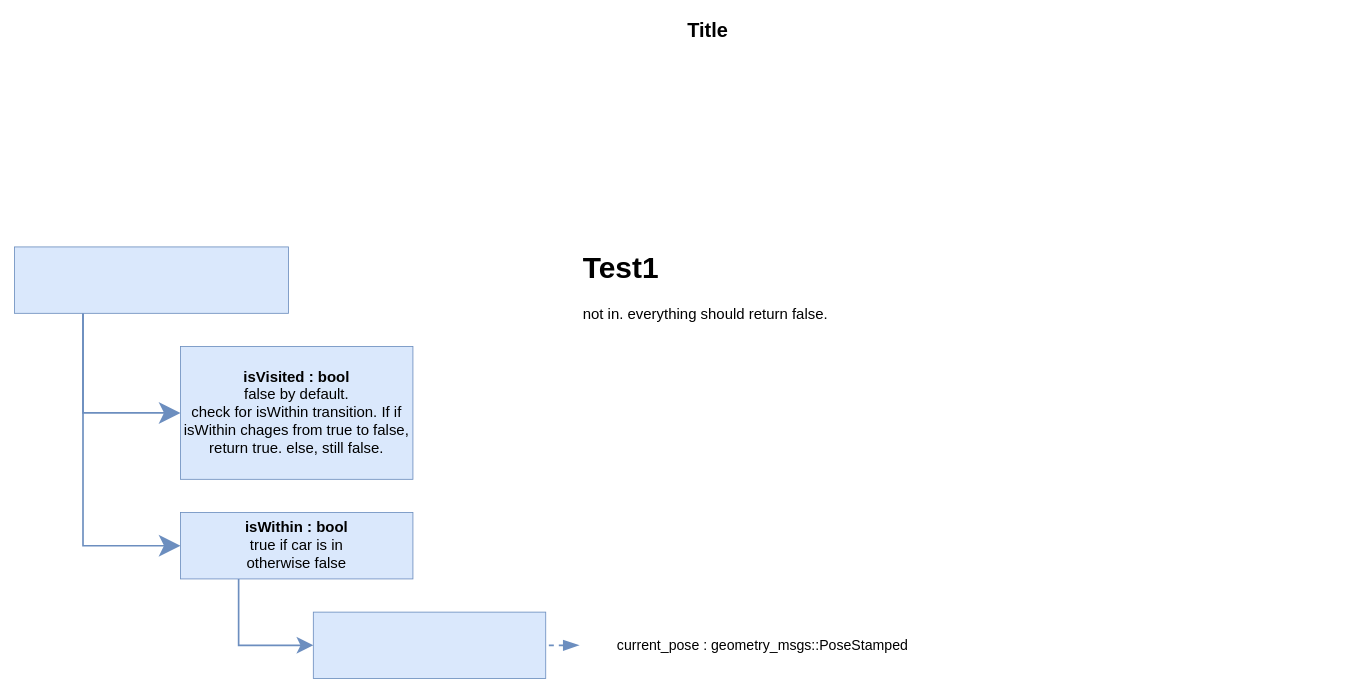
This 1349x693 diagram has some shape labels left out. The centre of each missing label's shape, as x and y in pixels:
"region of interest : double x1, y1, x2, y2 direction matters." belongs at (151,279).
"while isWithin optional(getTrafficColor : int)" belongs at (429,645).
